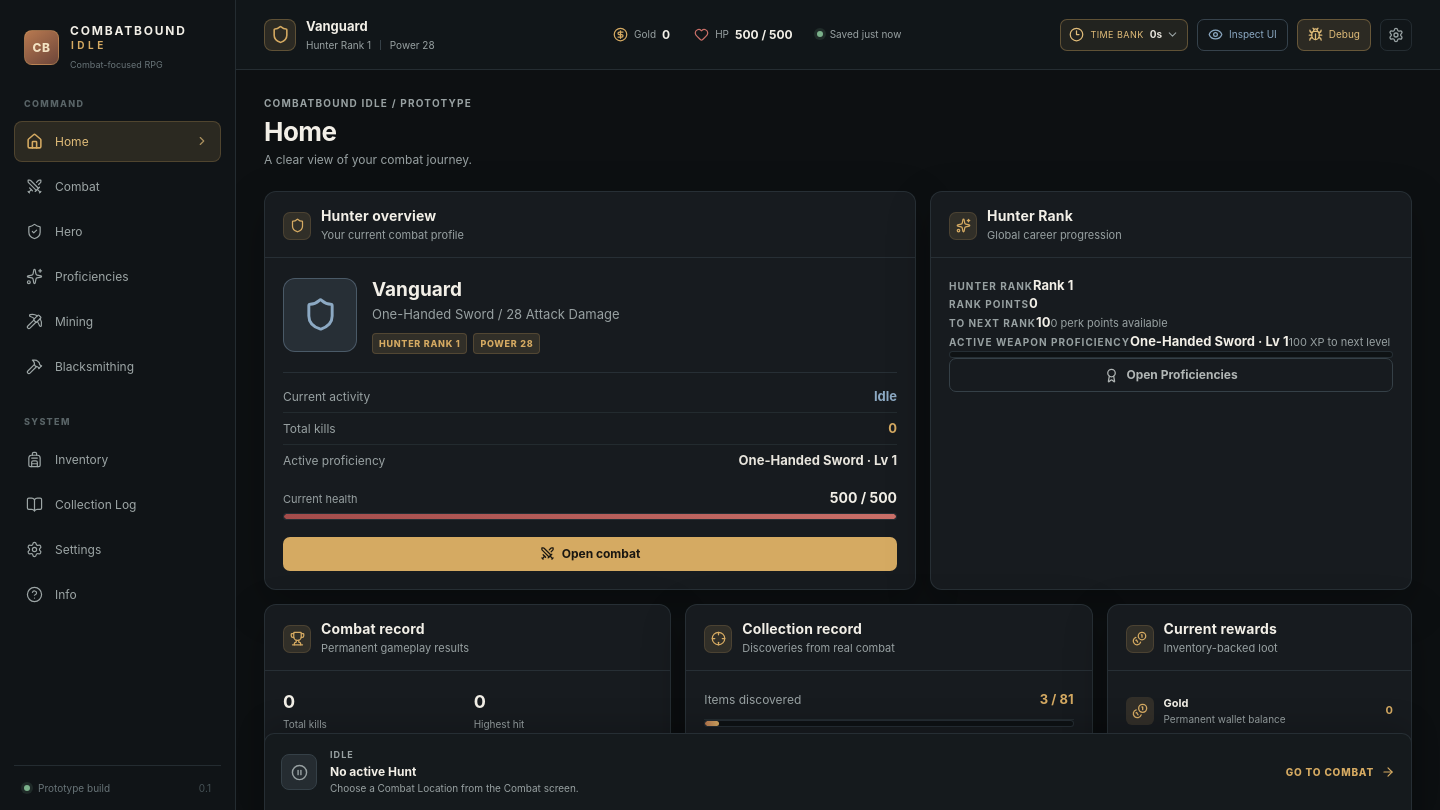
Test: Equipment 2.0 Hero workspace › keeps the loadout and slot inspector as a stable two-pane workspace
The width and height of the screenshot is (1440, 810).
Click the button "Hero" at (118, 232), box [14, 211, 221, 252]
(page scrolled)
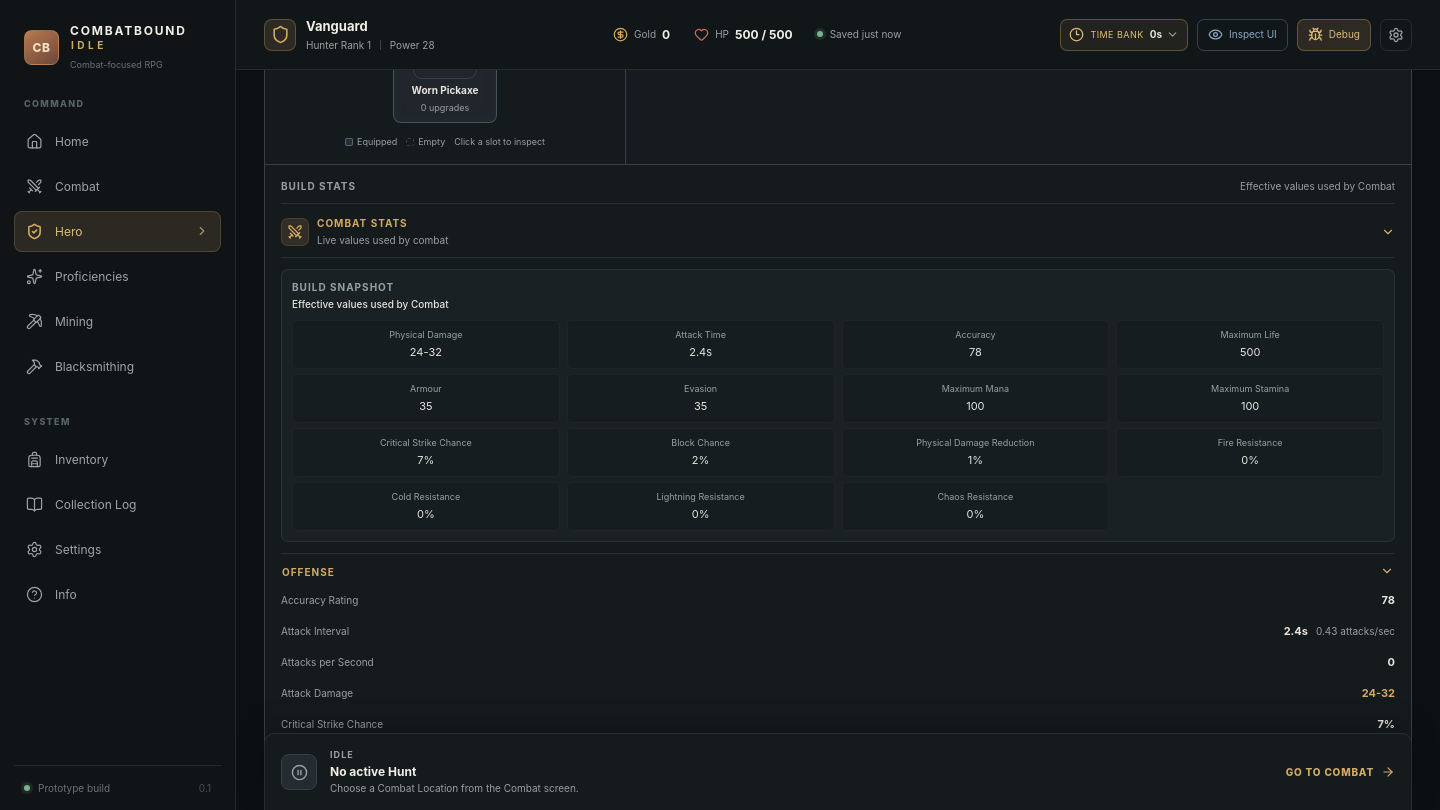
expect the element that starts with "BUILD SNAPSHOT" is shown: met, box [281, 269, 1395, 542]
